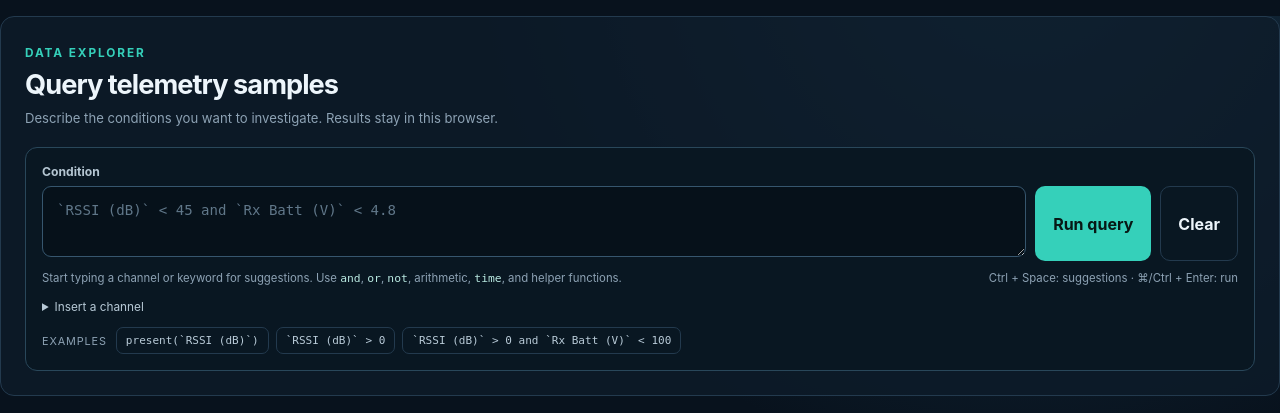
Test case: TelemetryQuery › autocompletes channels with the keyboard
In the dropdown labelled "Condition": (534, 222) [42,186,1026,257], type "sig"
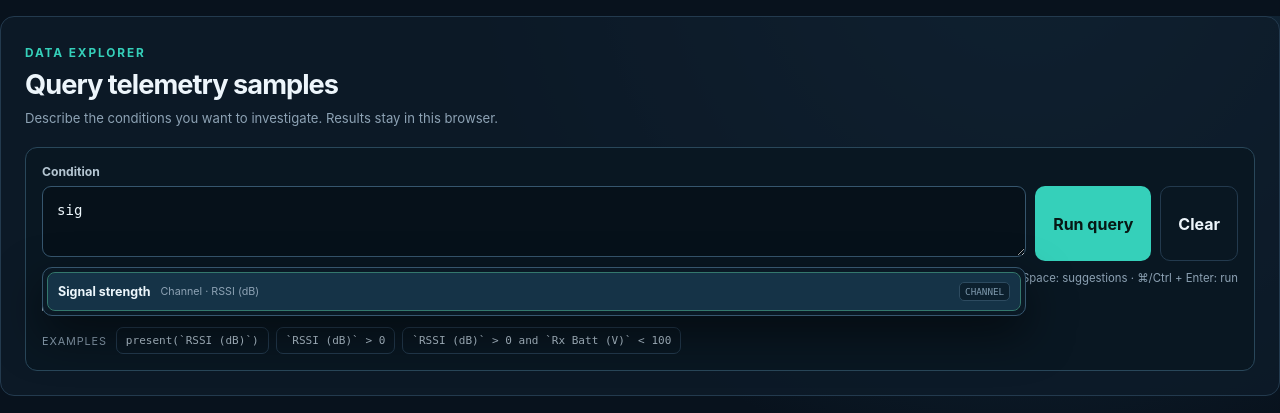
Result: the list is shown at [42,267,1026,316]
Result: the option "Signal strength Channel · RSSI (dB) channel" is shown at [48,273,1020,310]
Press Enter in the dropdown labelled "Condition", box [42,186,1026,257]
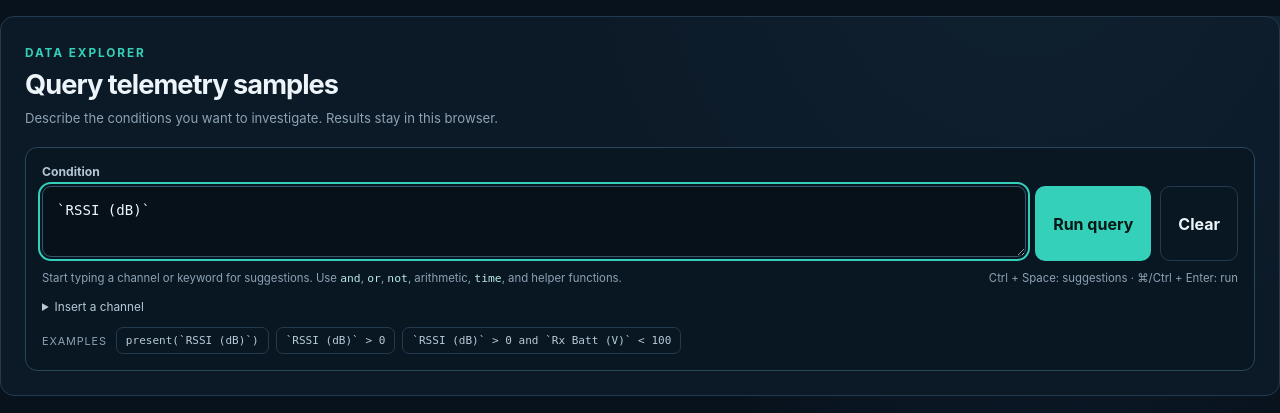
Result: the dropdown labelled "Condition" holds "`RSSI (dB)` " at [42,186,1026,257]
Result: the list is gone
